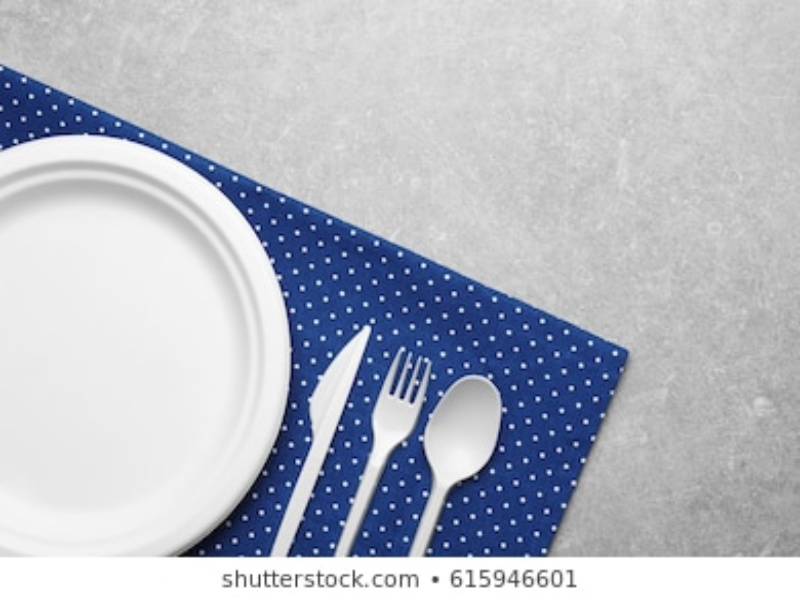plastic-plate: (1, 132, 294, 556)
plastic-silverware: (269, 319, 380, 559), (334, 347, 437, 559), (397, 374, 515, 557)
